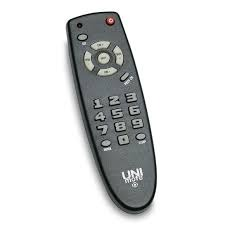remote control: (61, 11, 161, 214)
